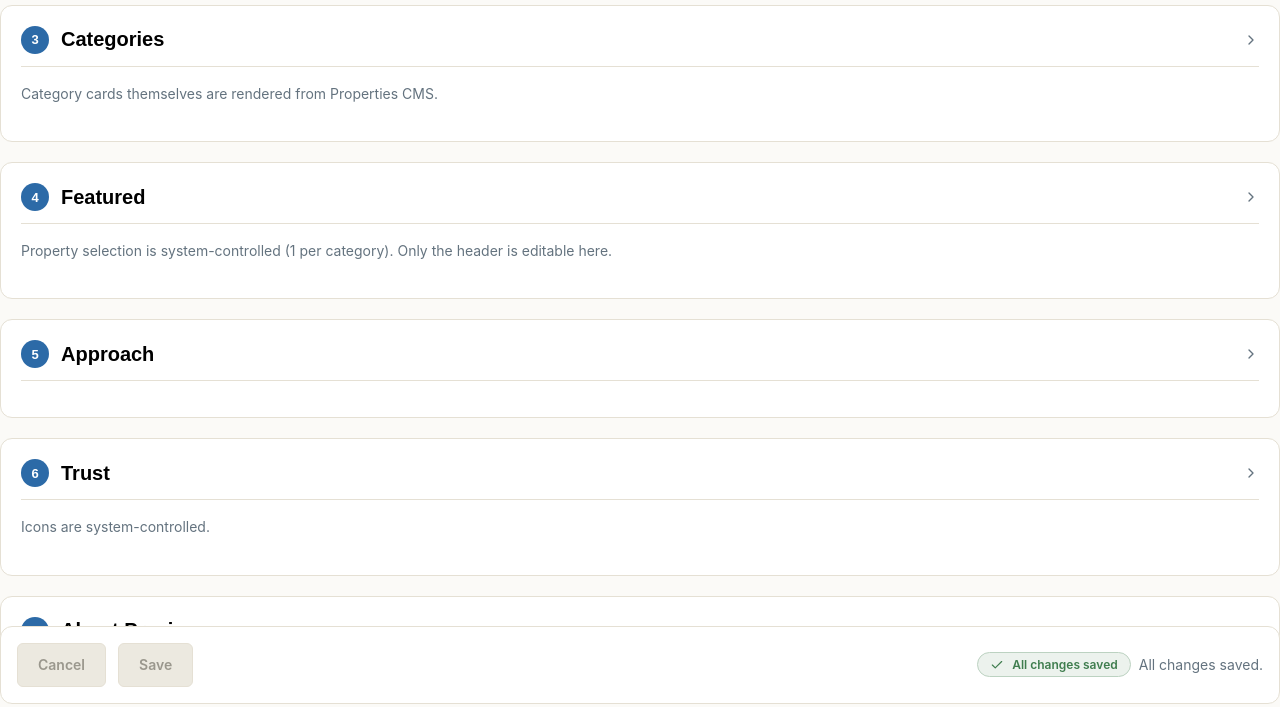
it: CmsHomepagePage — Phase 1 Homepage CMS › anchor nav and collapsible sections work
The width and height of the screenshot is (1280, 707).
(page scrolled)
Expected: the field showing "Understand your goal" is not shown
// Expand Approach via header button
Step 1. Click the button "5 Approach" → click(108, 354), box [21,340,1259,381]
(page scrolled)
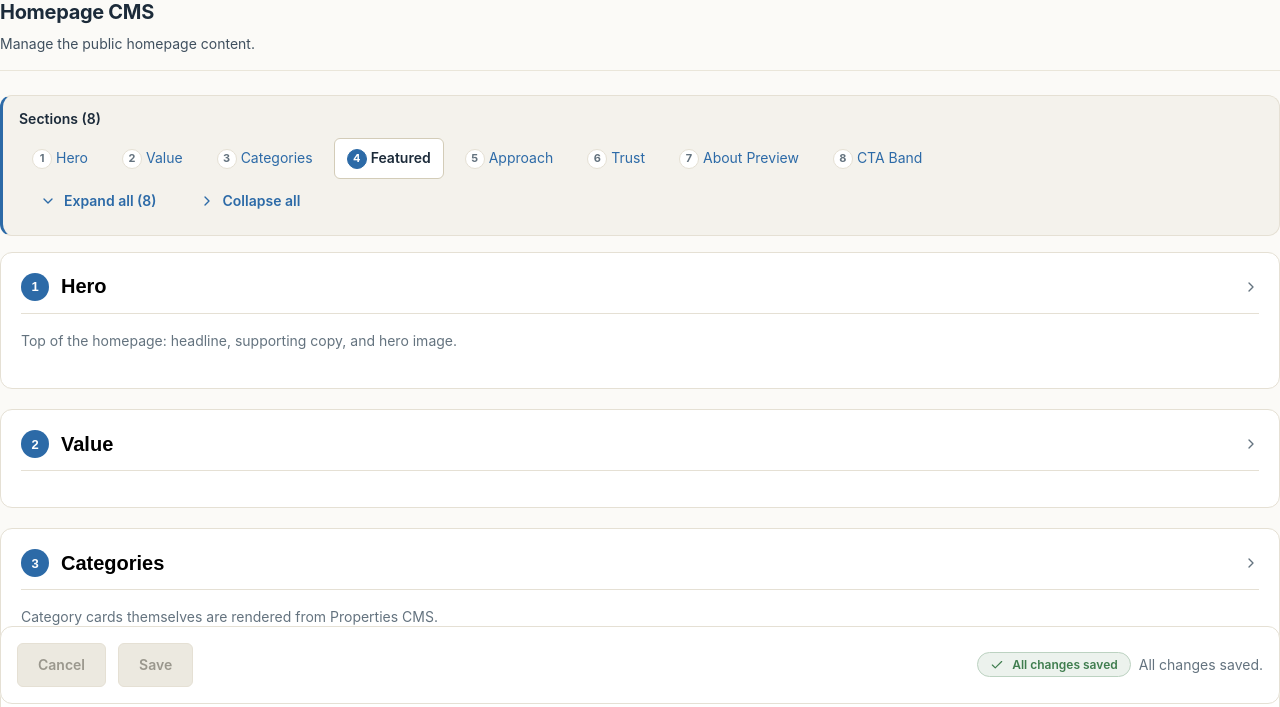
// Collapse via Collapse all
Step 2. Click the button "Collapse all" → click(249, 201), box [178,179,321,223]
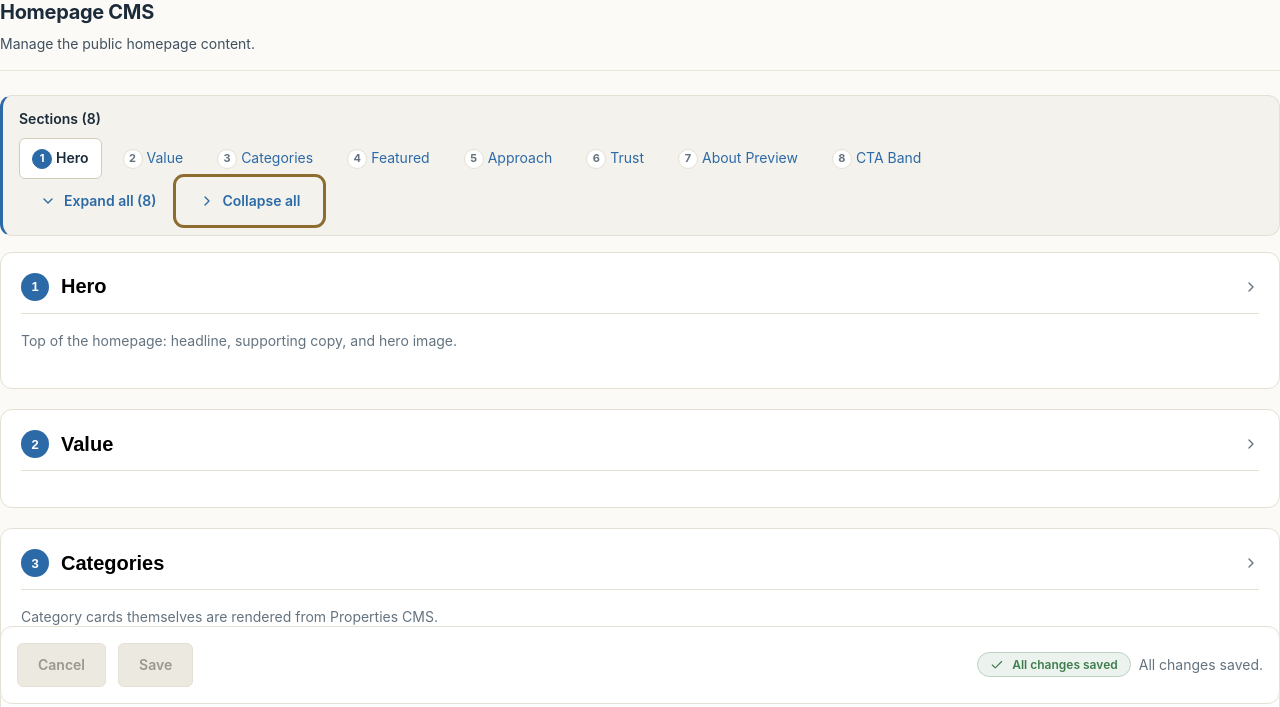
// Expand all
Step 3. Click the button "Expand all (8)" → click(98, 201), box [19,179,178,223]
(page scrolled)
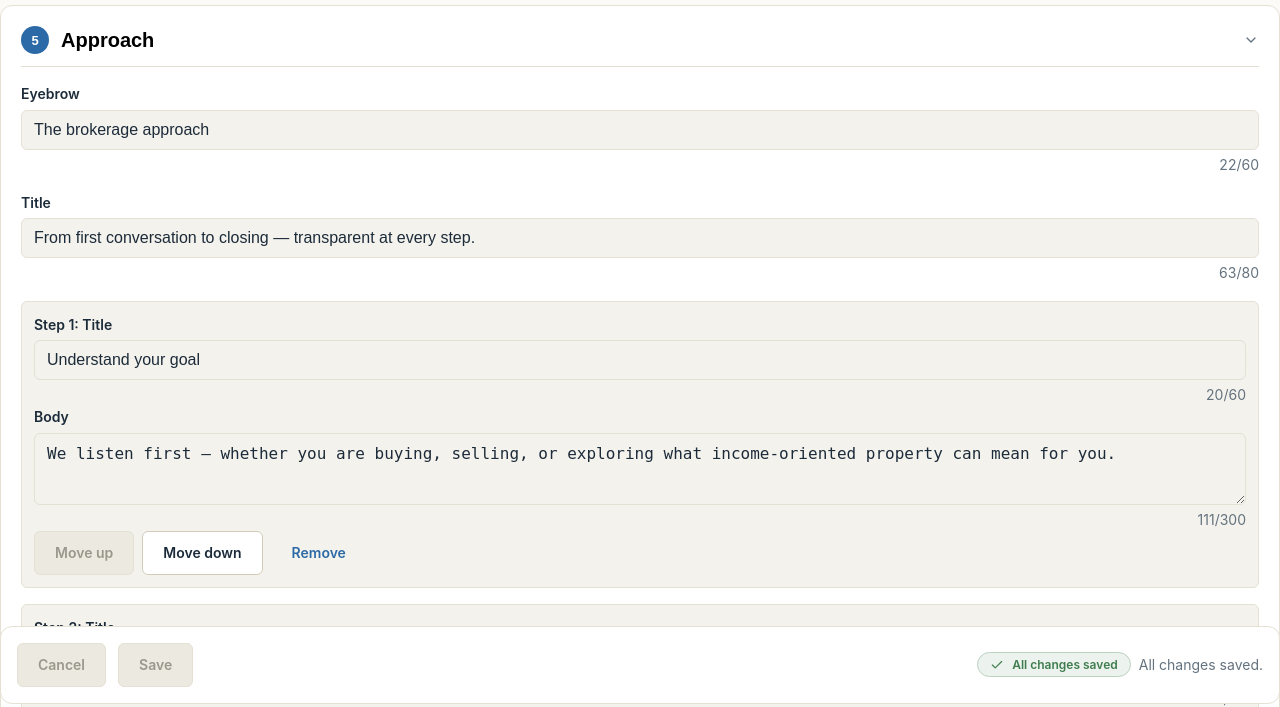
Expected: the field showing "Understand your goal" is shown, [34,340,1246,380]
